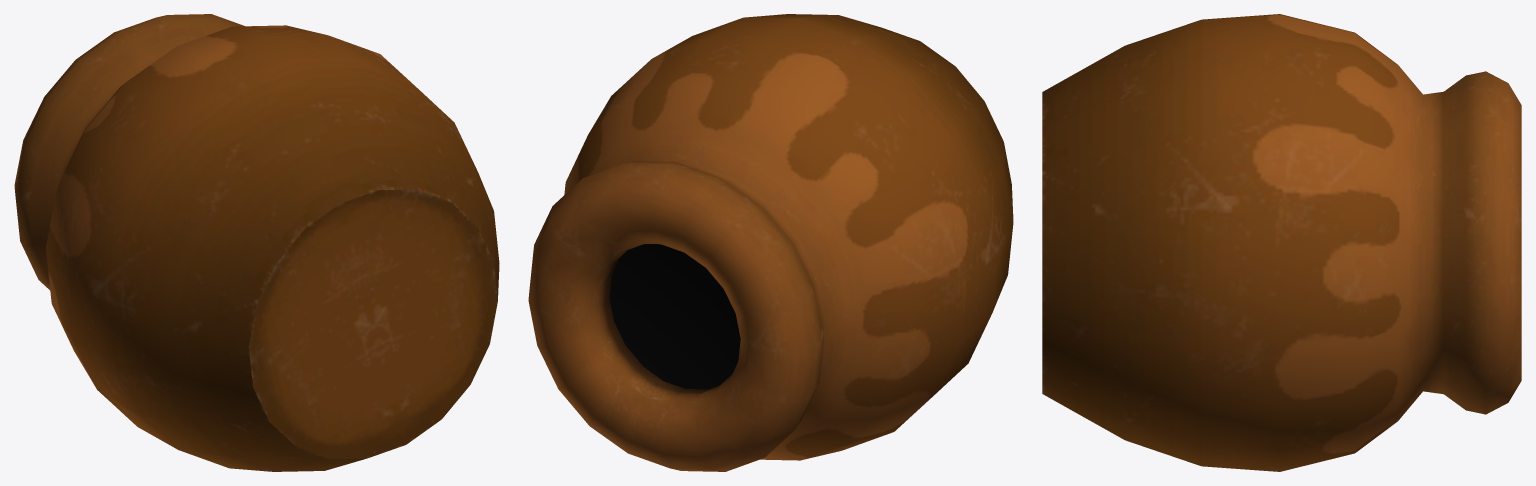
File: Pot.fbx
3 views of the same model, side by side, from view 1: azimuth 30°, elevation 25°; view 2: azimuth 150°, elevation 25°; view 3: azimuth 270°, elevation 25° (orthographic). The views are drawn at different scales.
Parts seen in each view (by area): view 1: Pot; view 2: Pot; view 3: Pot.
Boxes of the visible parts, x1=… form: Pot: x1=14, y1=14, x2=499, y2=471; Pot: x1=528, y1=14, x2=1013, y2=471; Pot: x1=1042, y1=14, x2=1521, y2=471.
Bounding box in the file's own units: 11958 × 11957 × 12404.
